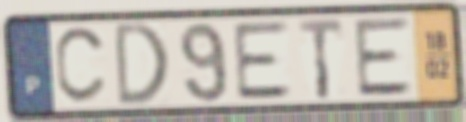9: (176, 20, 231, 106)
C: (52, 24, 110, 107)
D: (112, 19, 171, 110)
E: (230, 18, 295, 103), (351, 14, 416, 99)
T: (295, 16, 346, 102)
